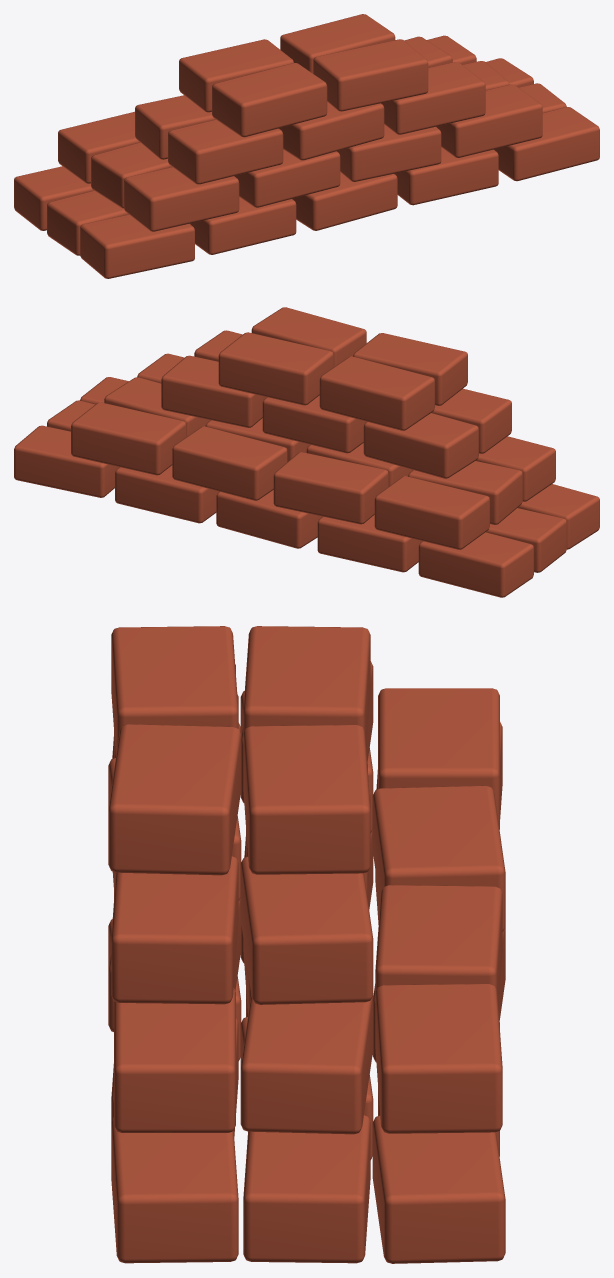
Rendered from bricks.glb.
3 views of the same model, one above another, from view 1: azimuth 30°, elevation 25°; view 2: azimuth 150°, elevation 25°; view 3: azimuth 270°, elevation 25° (orthographic). The views are drawn at different scales.
Parts seen in each view (by area): view 1: Brick.033, Brick.035, Brick.015, Brick, Brick.027, Brick.012, Brick.024, Brick.031, Brick.034, Brick.021, Brick.029, Brick.006 (+14 smaller); view 2: Brick.017, Brick.034, Brick.020, Brick.023, Brick.026, Brick.036, Brick.002, Brick.028, Brick.032, Brick.014, Brick.033, Brick.011 (+16 smaller); view 3: Brick.035, Brick.036, Brick.026, Brick.032, Brick.014, Brick.025, Brick.031, Brick.013, Brick.012, Brick.024, Brick.020, Brick.033 (+3 smaller).
Boxes of the visible parts, x1,y1,x2,y2 form: Brick.033: (212, 63, 327, 137); Brick.035: (313, 39, 428, 111); Brick.015: (124, 167, 239, 231); Brick: (80, 214, 194, 278); Brick.027: (168, 119, 283, 184); Brick.012: (494, 107, 599, 181); Brick.024: (436, 84, 542, 157); Brick.031: (381, 62, 485, 134); Brick.034: (179, 39, 293, 112); Brick.021: (337, 124, 441, 181); Brick.029: (279, 102, 384, 160); Brick.006: (292, 172, 397, 230); Brick.017: (374, 476, 489, 549); Brick.034: (319, 356, 434, 430); Brick.020: (273, 452, 388, 524); Brick.023: (172, 426, 287, 500); Brick.026: (71, 402, 186, 475); Brick.036: (218, 332, 333, 405); Brick.002: (418, 532, 533, 597); Brick.028: (363, 413, 478, 478); Brick.032: (161, 355, 266, 427); Brick.014: (14, 425, 119, 497); Brick.033: (353, 333, 467, 405); Brick.011: (115, 465, 218, 523); Brick.035: (108, 724, 241, 875); Brick.036: (243, 725, 370, 874); Brick.026: (375, 984, 502, 1133); Brick.032: (240, 856, 373, 1004); Brick.014: (372, 1115, 505, 1263); Brick.025: (240, 995, 373, 1134); Brick.031: (111, 856, 238, 1004); Brick.013: (243, 1115, 370, 1263); Brick.012: (111, 1117, 238, 1263); Brick.024: (114, 988, 235, 1132); Brick.020: (372, 785, 505, 931); Brick.033: (111, 626, 238, 755).
Bounding box in the file's own units: 1.13 × 0.315 × 0.3908.
